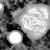node 1: (6, 29, 24, 45)
node 2: (13, 5, 50, 41)
